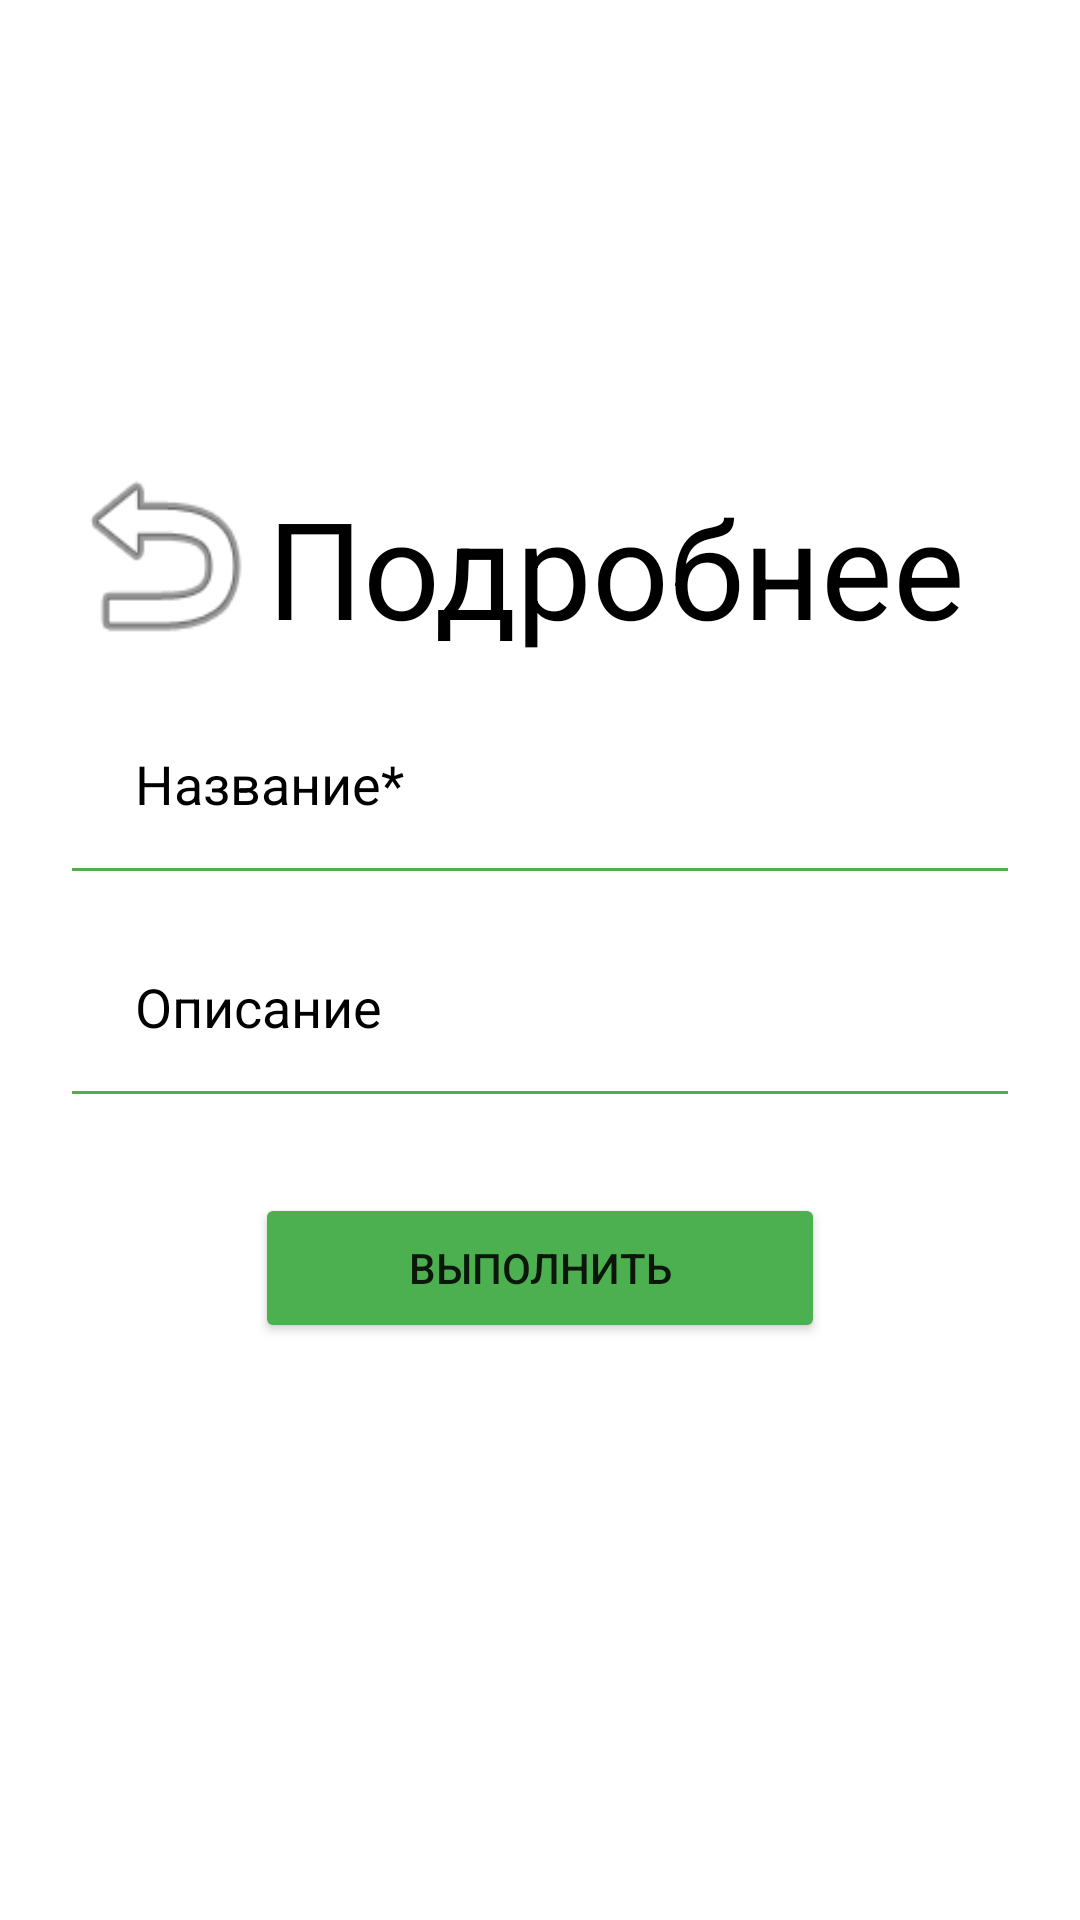

Icons on this 1080px x 1920px Android screen, each with its box as bbox=[x1, y1, x2, y2]:
revert: bbox=[91, 482, 241, 631]
